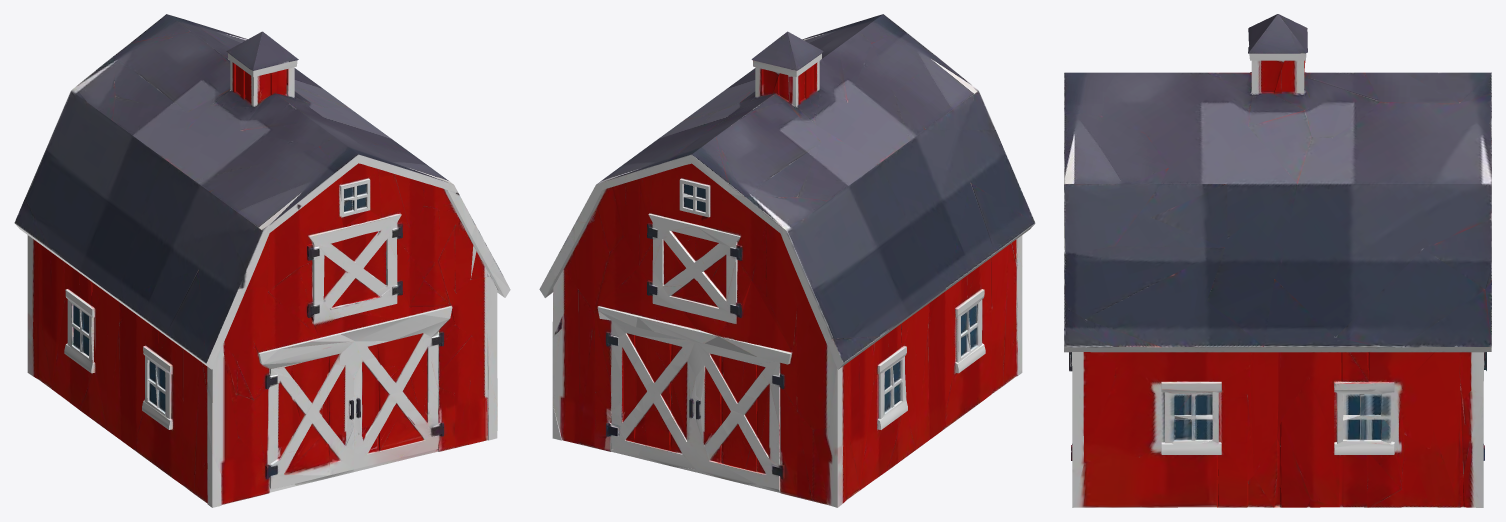
Rendered from barn.glb.
3 renders of one model, left to right at view 1: azimuth 30°, elevation 25°; view 2: azimuth 150°, elevation 25°; view 3: azimuth 270°, elevation 25°, orthographic. The views are drawn at different scales.
Bounding box in the file's own units: 1.62 × 1.9 × 1.77.
Materials: 1 (1 with a texture image).
